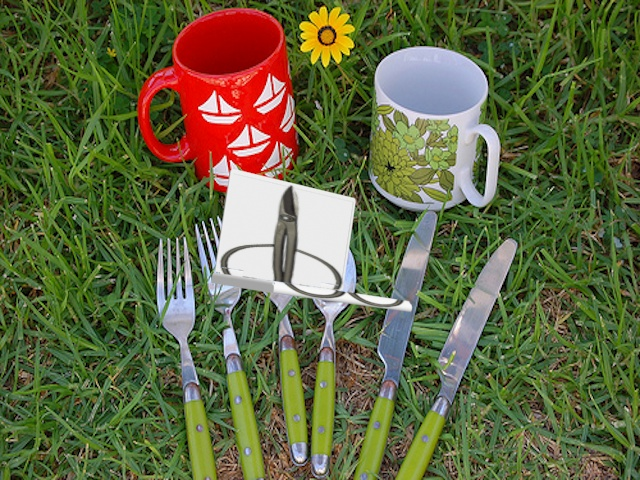laptop_computer: (209, 169, 416, 320)
